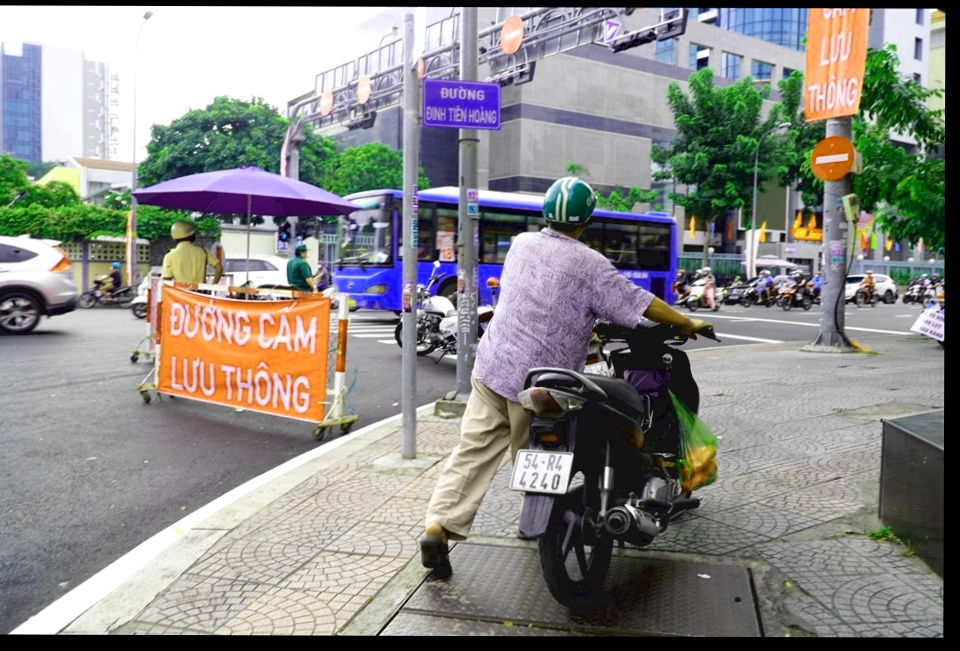Bien-so: (526, 458, 589, 502)
